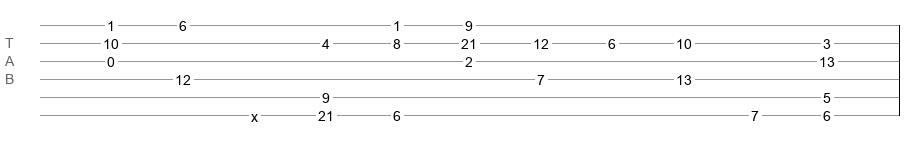0: (107, 54, 115, 64)
1: (107, 18, 115, 28), (393, 18, 401, 28)
10: (103, 36, 119, 46), (676, 36, 692, 46)
12: (175, 72, 191, 82), (533, 36, 549, 46)
13: (676, 72, 692, 82), (819, 54, 835, 64)
2: (465, 54, 473, 64)
21: (318, 108, 334, 118), (461, 36, 477, 46)
3: (823, 36, 831, 46)
4: (322, 36, 330, 46)
5: (823, 90, 831, 100)
6: (179, 18, 187, 28), (393, 108, 401, 118), (608, 36, 616, 46), (823, 108, 831, 118)
7: (537, 72, 545, 82), (751, 108, 759, 118)
8: (393, 36, 401, 46)
9: (322, 90, 330, 100), (465, 18, 473, 28)
x: (251, 109, 258, 117)
